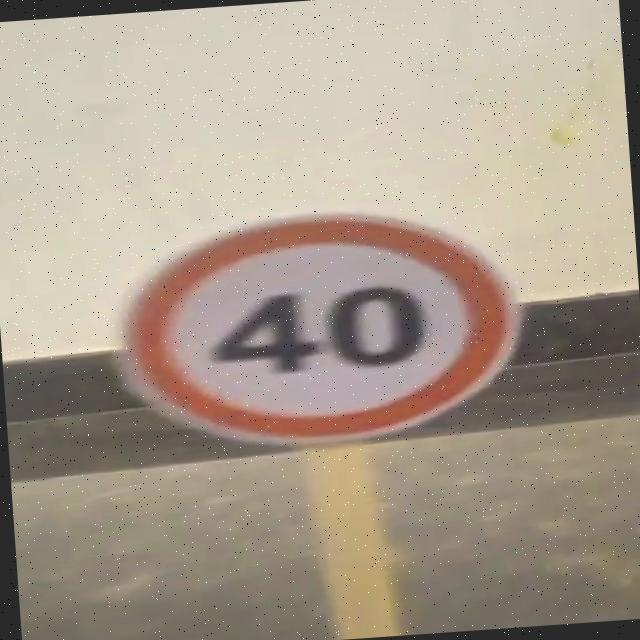Speed40: (95, 192, 546, 463)
